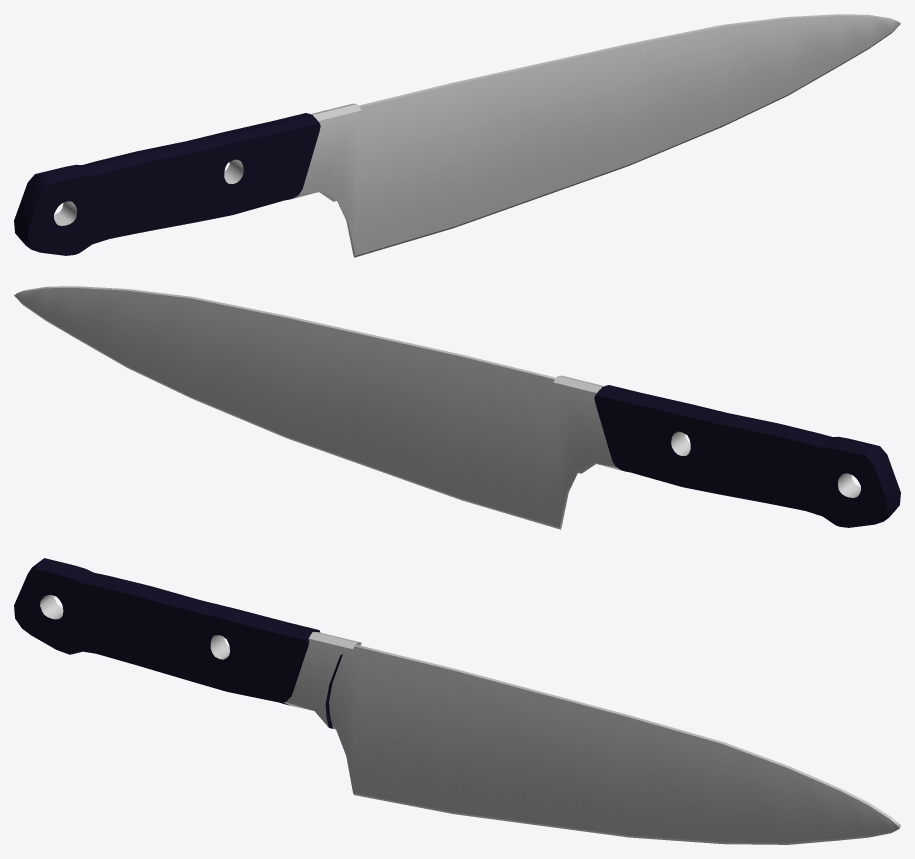
The model's file is KNIFE_05.FBX.
3 views of the same model, one above another, from view 1: azimuth 30°, elevation 25°; view 2: azimuth 150°, elevation 25°; view 3: azimuth 330°, elevation 25° (orthographic).
Parts seen in each view (by area): view 1: Plane008; view 2: Plane008; view 3: Plane008.
Part boxes in pixels (box(x1,y1,x2,y2)): Plane008: box(14, 14, 900, 257); Plane008: box(14, 286, 900, 529); Plane008: box(14, 558, 900, 844).
Size of the model in its own units: 126 by 21.82 by 3.42.
3 materials, 1 textured.
